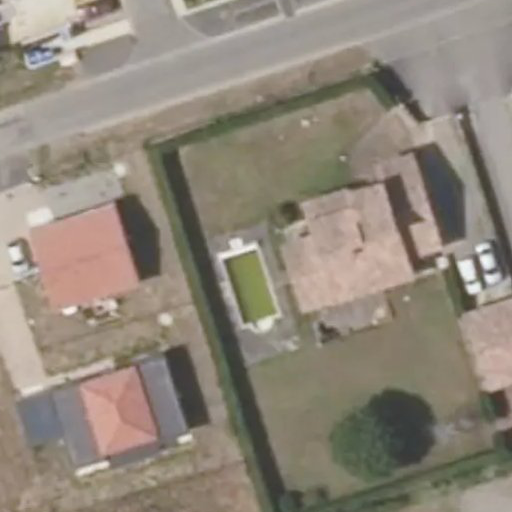pool: (226, 210, 288, 278)
